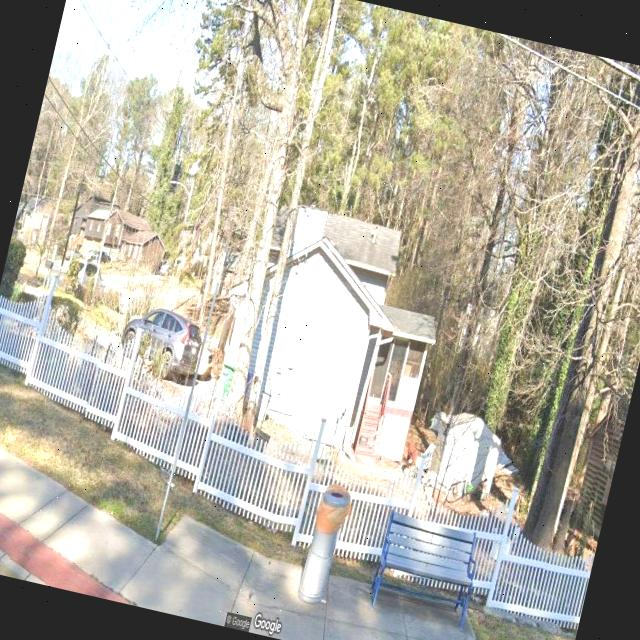seating: (366, 508, 486, 630)
trash_can: (296, 482, 354, 606)
